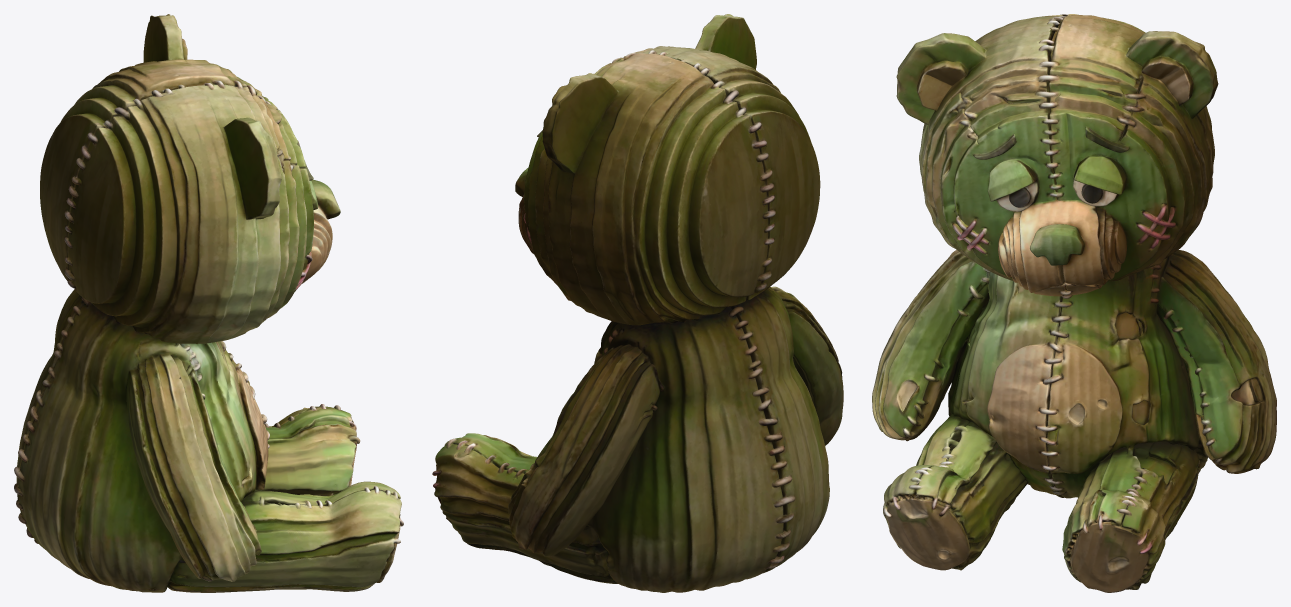
Rendered from oso 3.glb.
3 renders of one model, left to right at view 1: azimuth 30°, elevation 25°; view 2: azimuth 150°, elevation 25°; view 3: azimuth 270°, elevation 25°, orthographic. The views are drawn at different scales.
Parts seen in each view (by area): view 1: vizcom_node_0; view 2: vizcom_node_0; view 3: vizcom_node_0.
Boxes of the visible parts, <box> form: vizcom_node_0: <box>14,14,403,592</box>; vizcom_node_0: <box>432,14,843,592</box>; vizcom_node_0: <box>872,14,1276,592</box>.
Bounding box in the file's own units: 0.2117 × 0.3 × 0.2211.
Materials: 1 (1 with a texture image).
